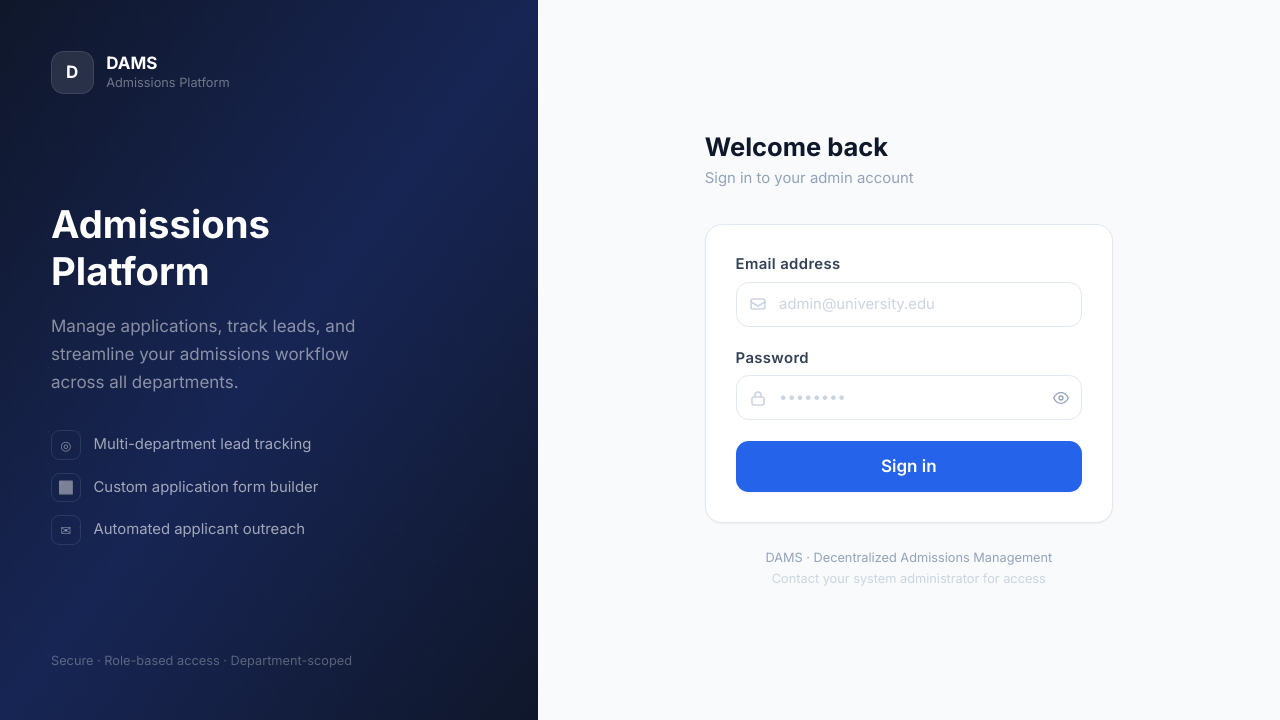
Test: Sign-in page — form submission › shows network error message when API is unreachable
Type "admin@dams.edu" into the field with test id "email-input".
click(909, 304); type("admin@dams.edu")  # box x1=736 y1=282 x2=1082 y2=326
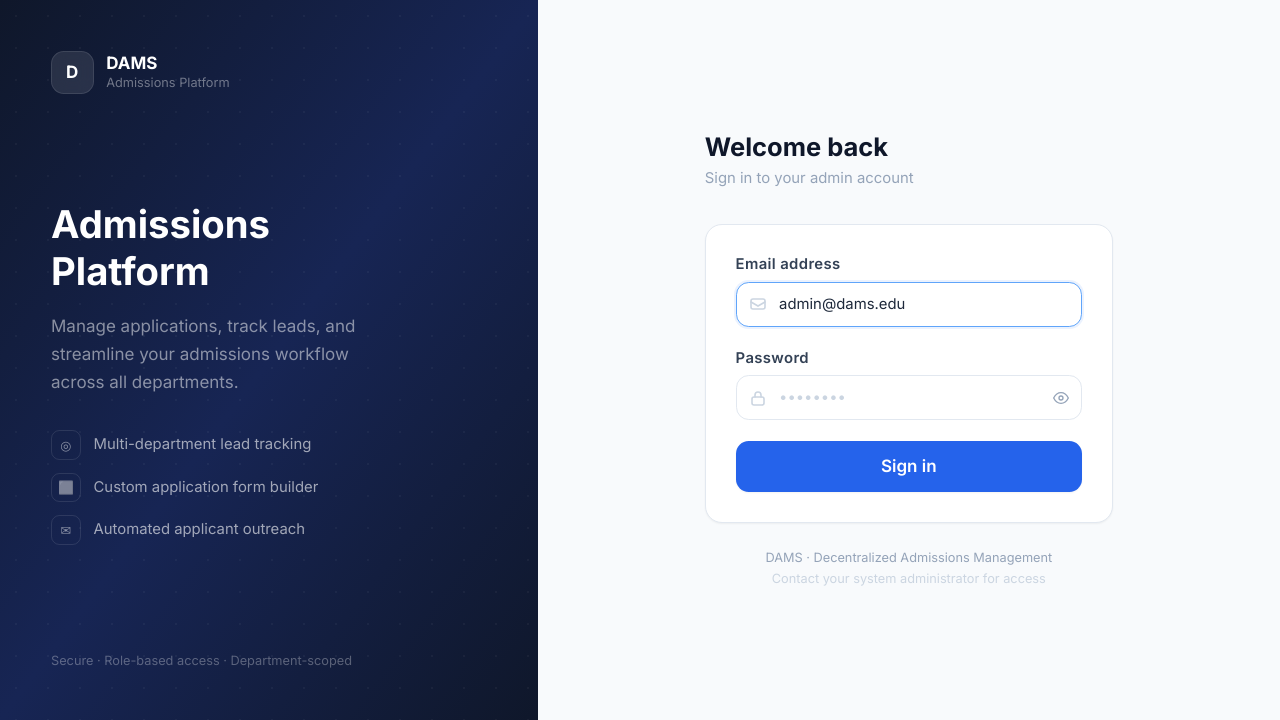
Type "Admin@2026" into the password field with test id "password-input".
click(909, 398); type("Admin@2026")  # box x1=736 y1=375 x2=1082 y2=420
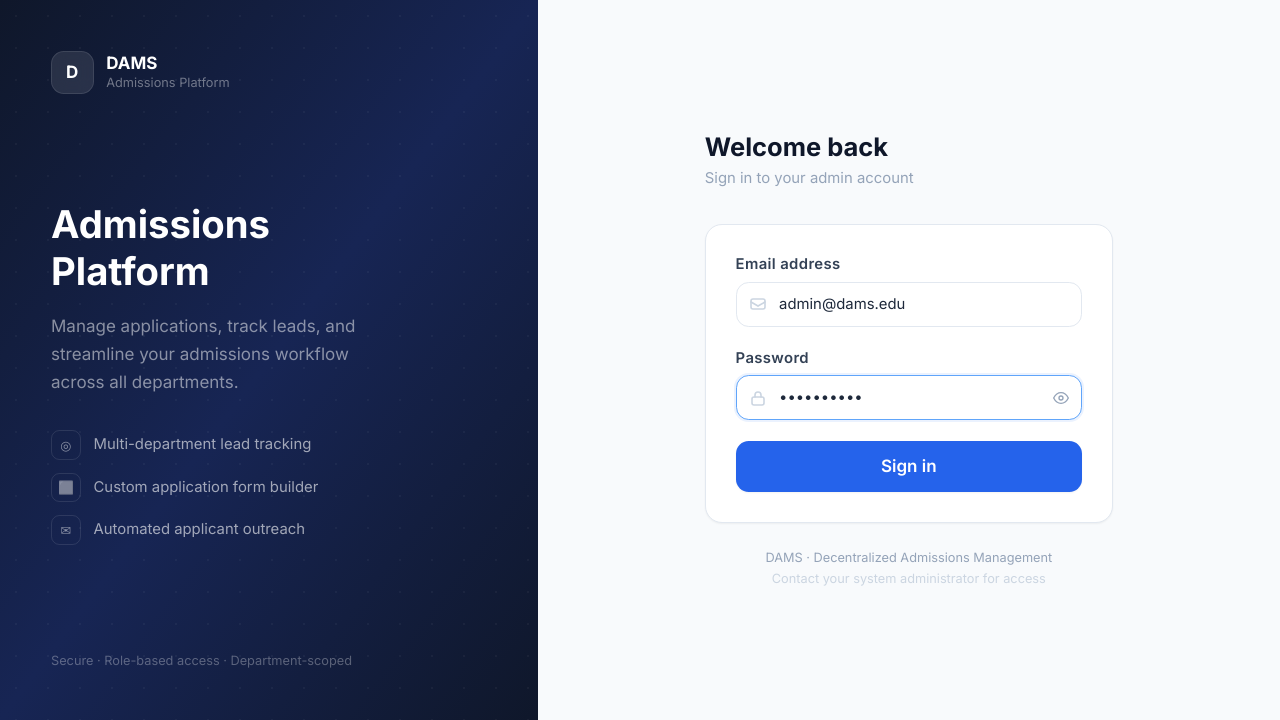
Click the button with test id "submit-btn".
click(909, 467)  # box x1=736 y1=441 x2=1082 y2=492
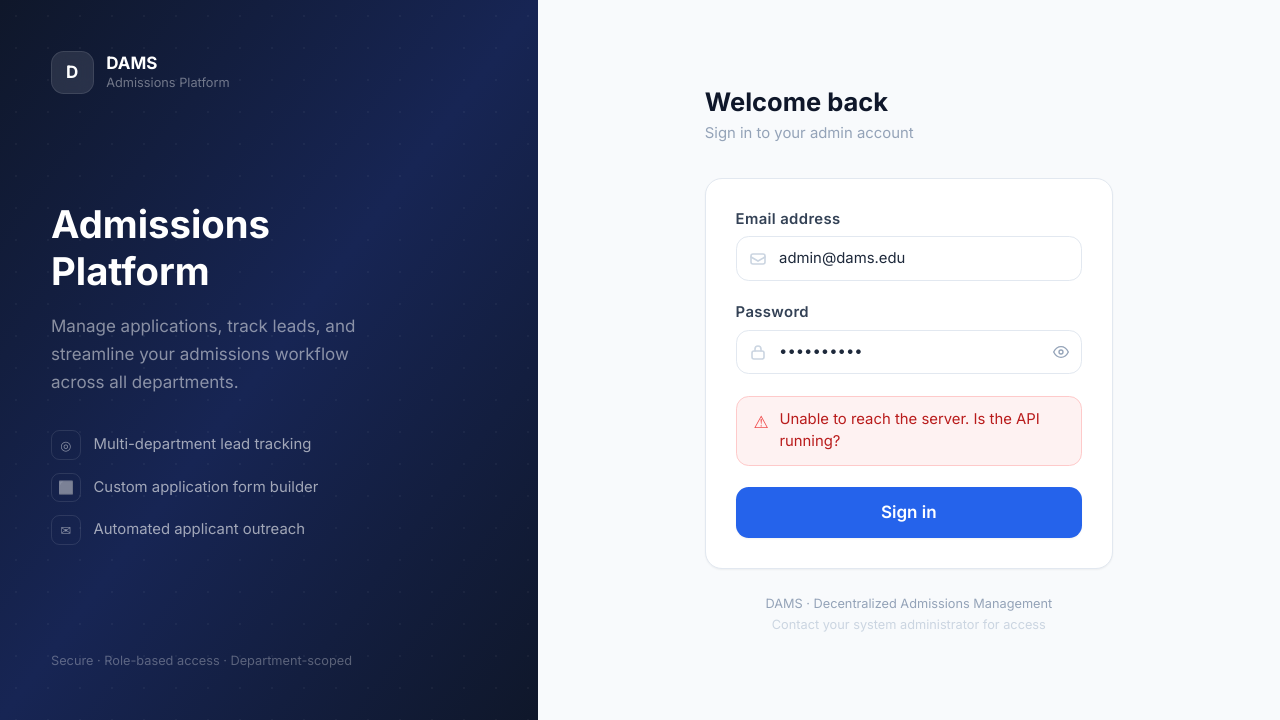
Result: the message shows "Unable to reach the server" at x1=779 y1=410 x2=1040 y2=450
